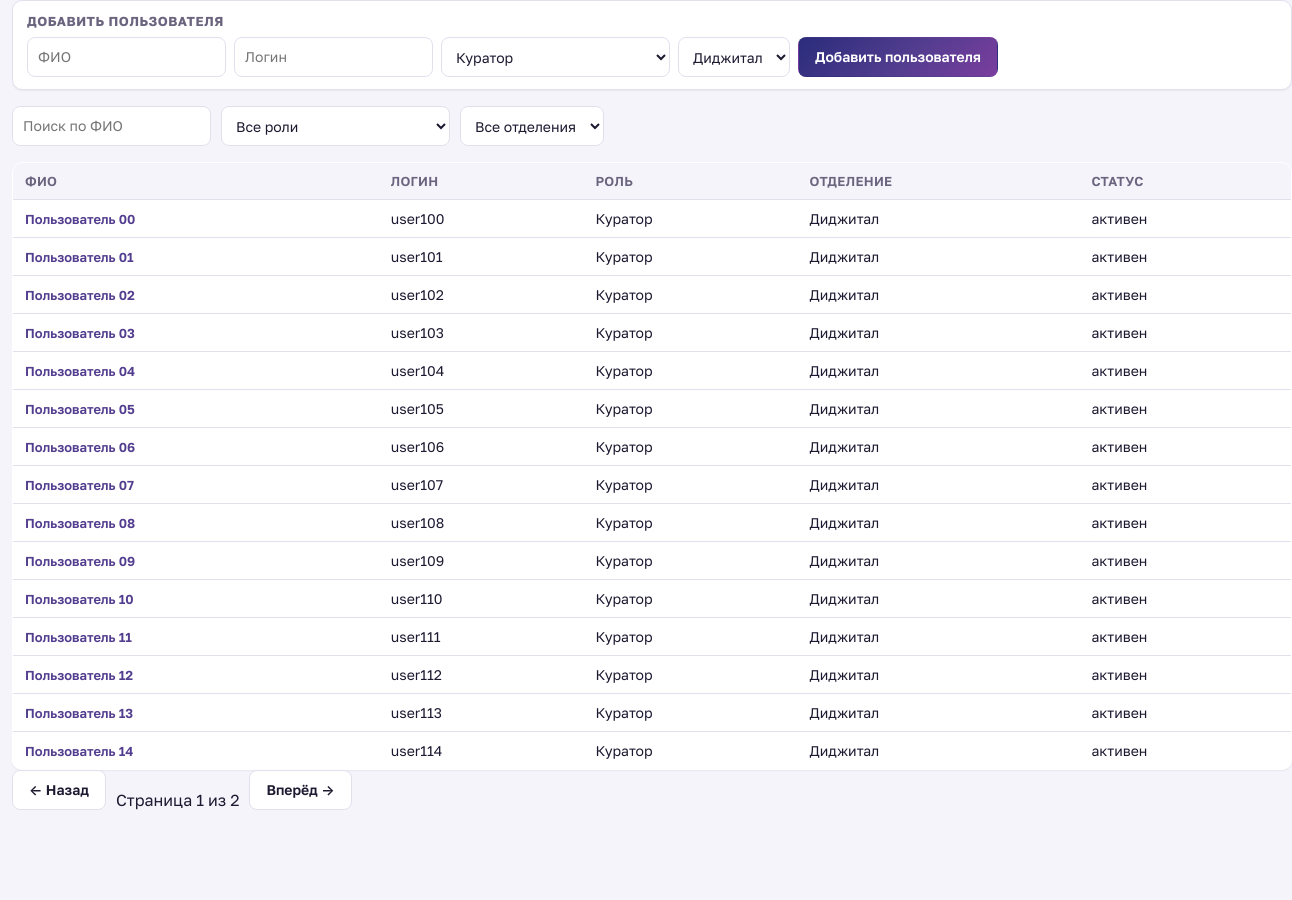
Test: UsersTab — список › страницы по 15: переключение и возврат на допустимую страницу, когда фильтр сократил список
Expected: the link "Пользователь 00" is shown, [21,209,139,229]
Expected: the text "Страница 1 из 2" is shown, [116,790,240,810]
Click the button "Вперёд →".
click(300, 790)  # box [249,770,352,810]
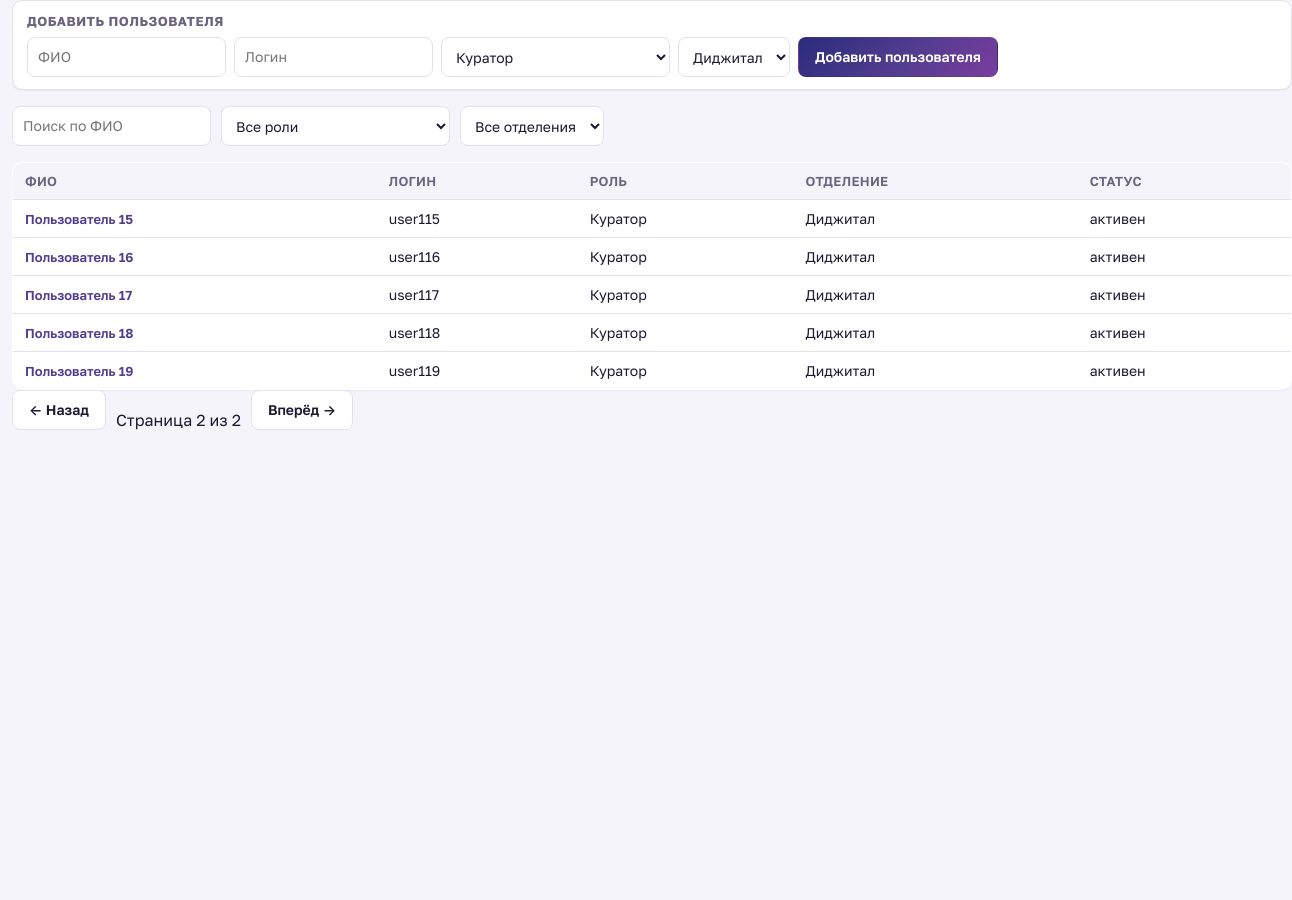
Expected: the link "Пользователь 15" is shown, [21,209,137,229]
Expected: the button "Вперёд →" is disabled, [251,390,353,430]
Стоя на второй странице, сужаем список до одного человека: таблица не должна оказаться пустой.
Type "Пользователь 03" into the field with placeholder "Поиск по ФИО".
click(112, 126); type("Пользователь 03")  # box [12,106,211,146]
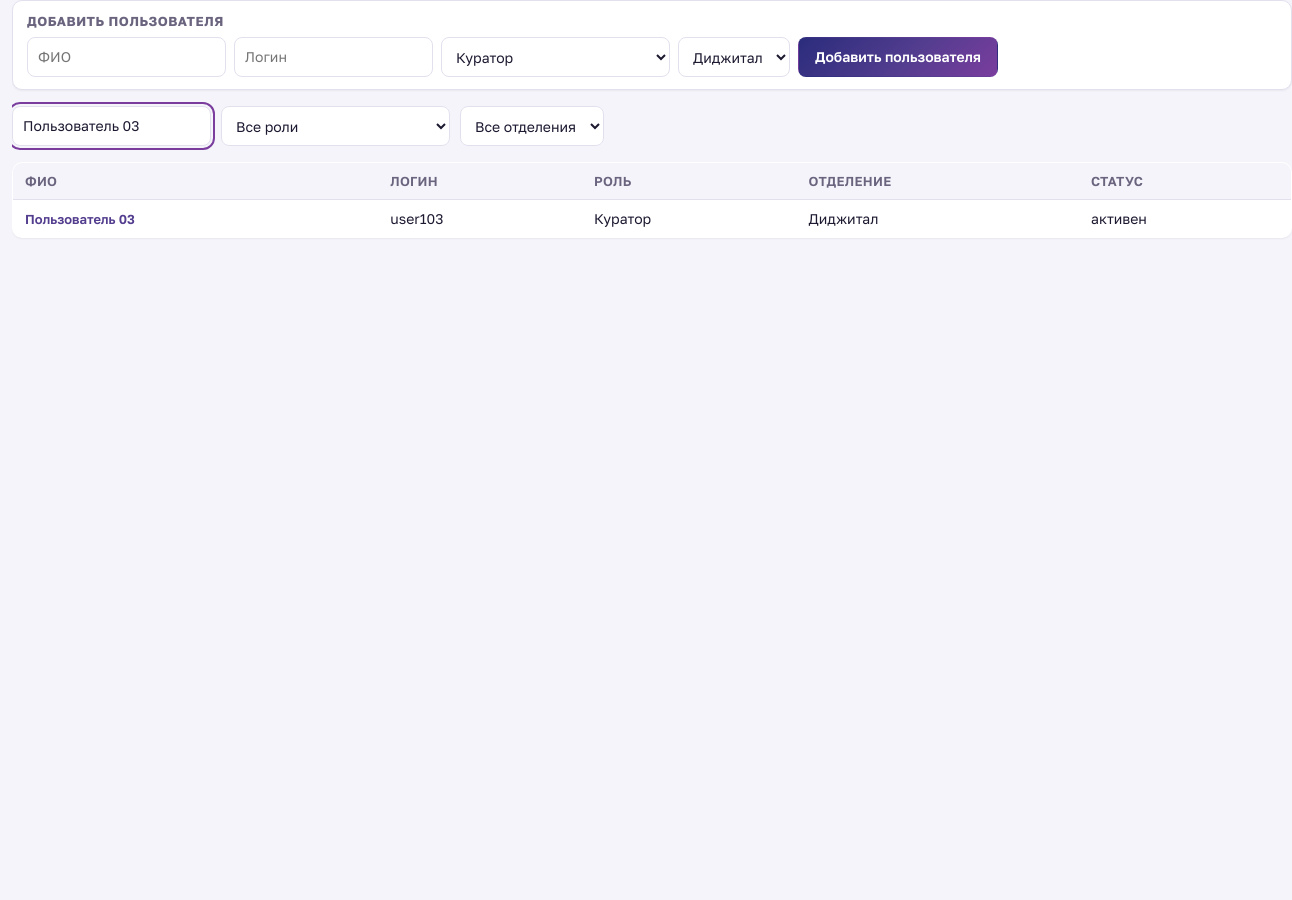
Expected: the link "Пользователь 03" is shown, [21,209,139,229]
Expected: the text "Страница" is gone
